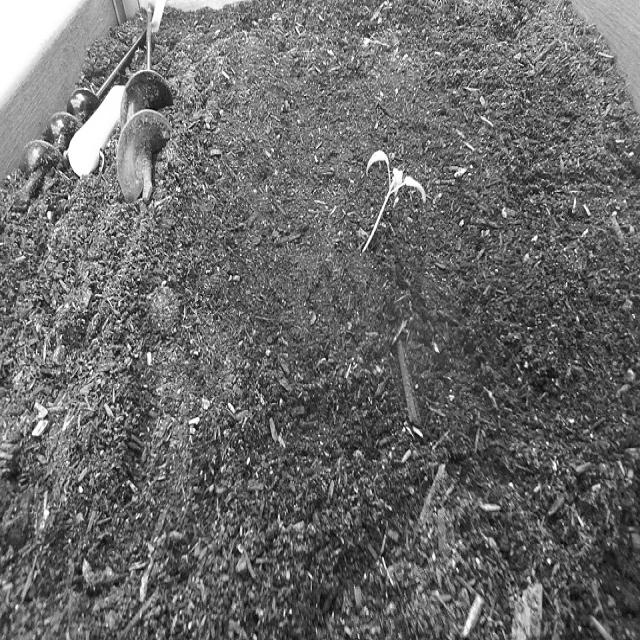Healthy: (354, 127, 432, 267)
